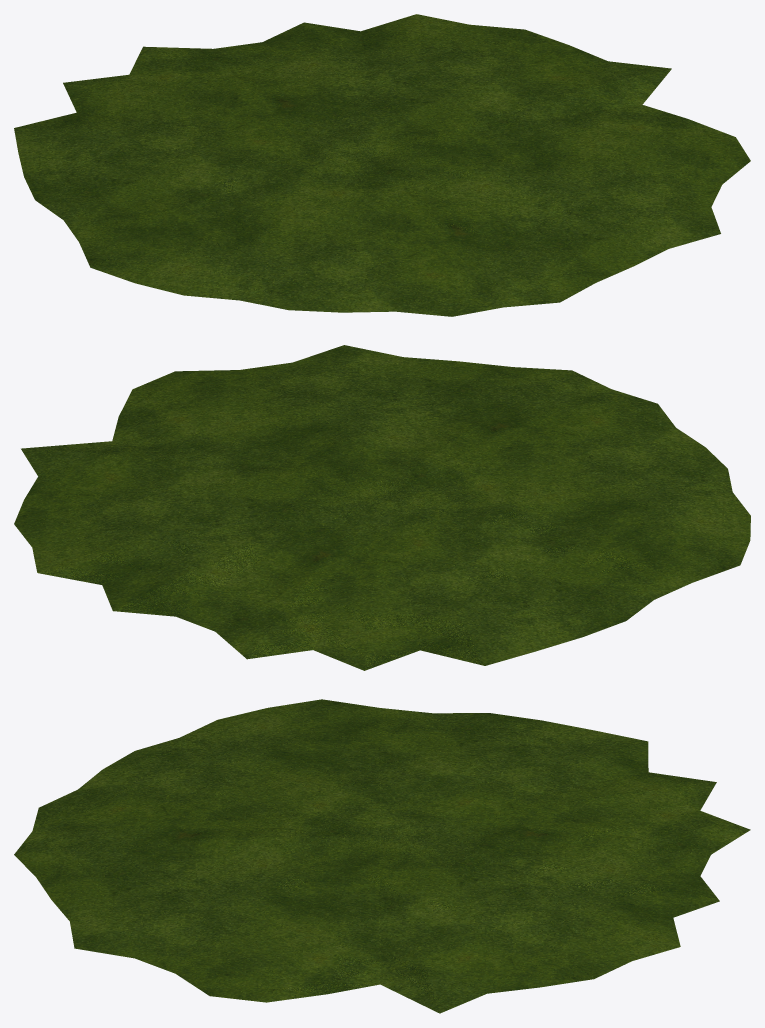
Rendered from ground_moss_carpet_v01.fbx.
3 renders of one model, top to bottom at view 1: azimuth 30°, elevation 25°; view 2: azimuth 150°, elevation 25°; view 3: azimuth 270°, elevation 25°, orthographic. The views are drawn at different scales.
Visible parts, largest first — view 1: ground_moss_carpet_v01; view 2: ground_moss_carpet_v01; view 3: ground_moss_carpet_v01.
Boxes of the visible parts, bbox=[...] form: ground_moss_carpet_v01: bbox=[14, 14, 750, 316]; ground_moss_carpet_v01: bbox=[14, 345, 750, 670]; ground_moss_carpet_v01: bbox=[14, 699, 750, 1013].
Size of the model in its own units: 107 by 2.9 by 106.
1 material, 1 textured.
